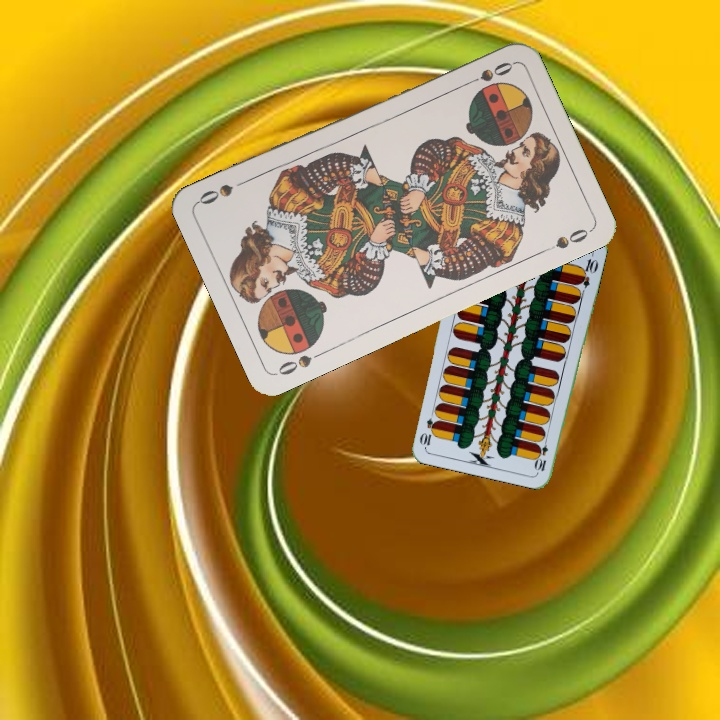E10: (532, 433, 551, 474)
SO: (459, 58, 516, 89), (273, 346, 328, 378)
